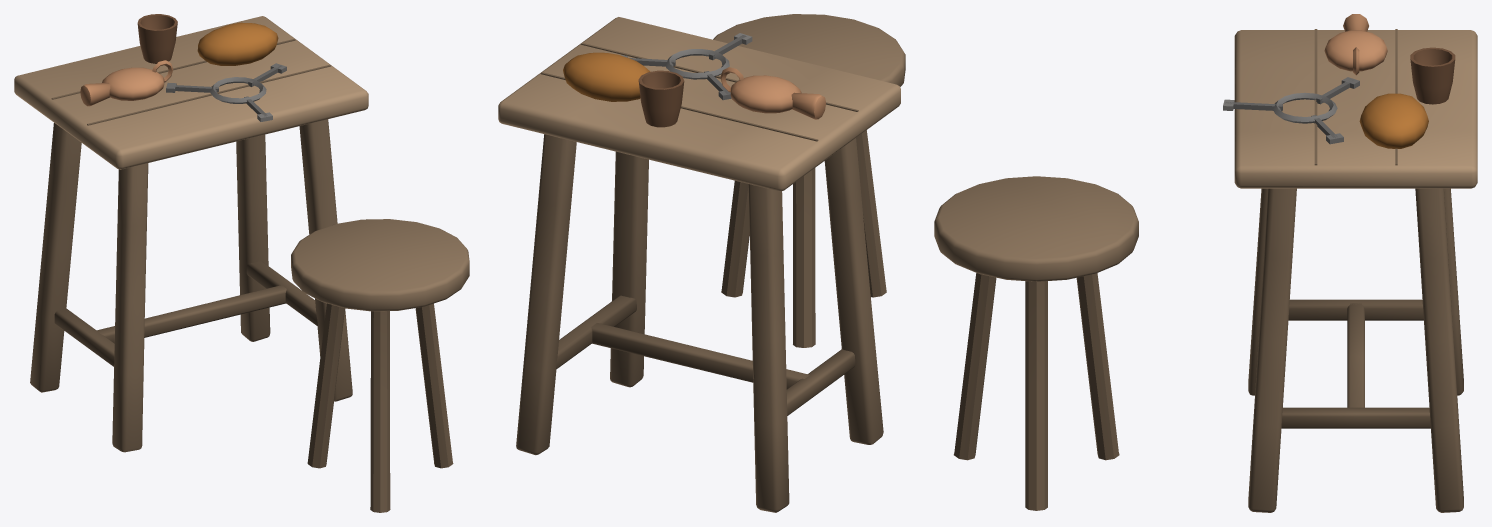
File: obj_kit_guardtable.glb
3 views of the same model, side by side, from view 1: azimuth 30°, elevation 25°; view 2: azimuth 150°, elevation 25°; view 3: azimuth 270°, elevation 25° (orthographic). The views are drawn at different scales.
Visible parts, largest first — view 1: Cube, Cylinder, Cube.003, Cube.004, Cube.007, Cube.006, sl.002, sl.001, sl, Cube.009, Sphere.001, cup (+6 smaller); view 2: Cube, Cube.004, Cube.007, Cube.003, Cylinder, Cube.006, sl.001, Cube.009, Sphere.001, sl.002, sl, cup (+6 smaller); view 3: Cube, Cylinder, Cube.006, Cube.007, sl, sl.001, sl.002, Cube.008, Sphere.001, Cube.005, cup, Sphere (+4 smaller).
Part boxes in pixels (<box>): Cube: <box>14,16,368,169</box>; Cylinder: <box>291,219,469,311</box>; Cube.003: <box>112,163,148,452</box>; Cube.004: <box>30,123,81,392</box>; Cube.007: <box>236,134,270,341</box>; Cube.006: <box>299,119,352,401</box>; sl.002: <box>370,311,390,512</box>; sl.001: <box>307,303,345,468</box>; sl: <box>415,303,453,468</box>; Cube.009: <box>96,285,286,343</box>; Sphere.001: <box>197,22,278,65</box>; cup: <box>137,14,177,63</box>; Cube: <box>498,17,900,191</box>; Cube.004: <box>748,184,789,512</box>; Cube.007: <box>516,134,576,455</box>; Cube.003: <box>824,138,883,444</box>; Cylinder: <box>713,14,905,86</box>; Cube.006: <box>610,151,648,387</box>; sl.001: <box>793,168,815,347</box>; Cube.009: <box>591,323,809,388</box>; Sphere.001: <box>563,52,650,101</box>; sl.002: <box>856,130,886,297</box>; sl: <box>721,180,749,297</box>; cup: <box>638,70,684,127</box>; Cube: <box>1234,30,1477,188</box>; Cylinder: <box>934,176,1138,281</box>; Cube.006: <box>1248,188,1296,512</box>; Cube.007: <box>1415,188,1463,512</box>; sl: <box>1025,281,1047,510</box>; sl.001: <box>1076,273,1119,460</box>; sl.002: <box>953,273,996,460</box>; Cube.008: <box>1281,407,1430,428</box>; Sphere.001: <box>1359,93,1428,148</box>; Cube.005: <box>1288,299,1423,320</box>; cup: <box>1410,47,1455,104</box>; Sphere: <box>1324,30,1387,71</box>.
Bounding box in the file's own units: 0.52 × 0.6806 × 0.85.
